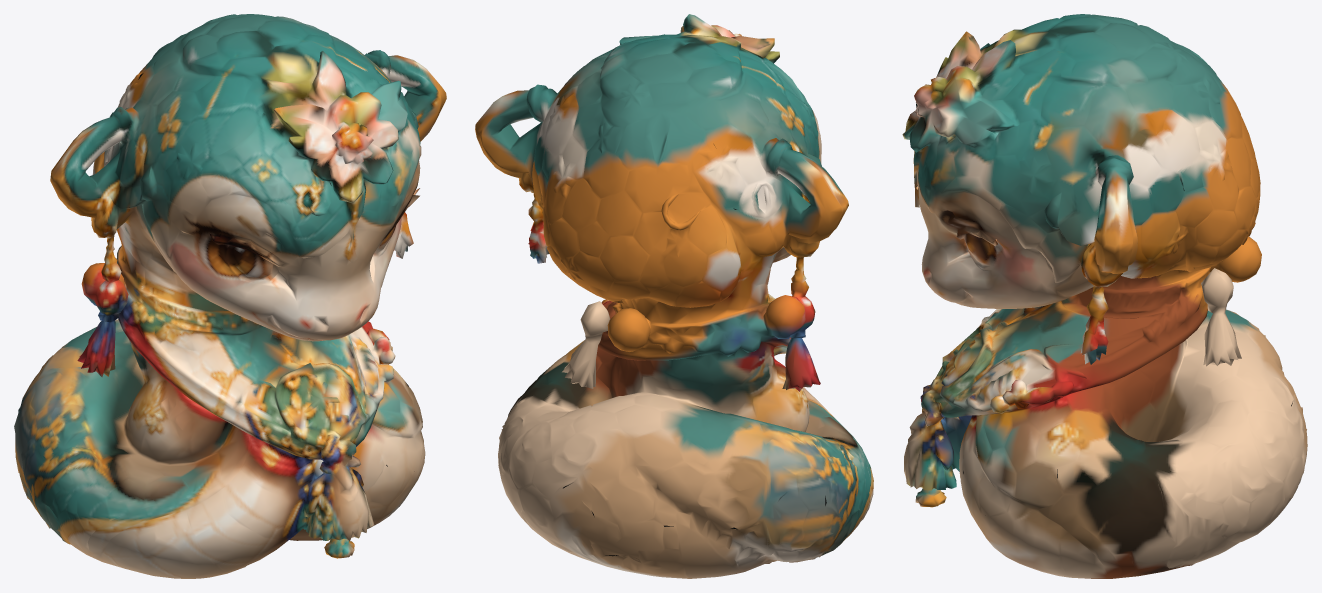
File: original.glb
3 renders of one model, left to right at view 1: azimuth 30°, elevation 25°; view 2: azimuth 150°, elevation 25°; view 3: azimuth 270°, elevation 25°, orthographic. The views are drawn at different scales.
Visible parts, largest first — view 1: Body; view 2: Body; view 3: Body.
Boxes of the visible parts, x1,y1,x2,y2 form: Body: (14, 14, 446, 578); Body: (475, 14, 873, 578); Body: (902, 14, 1307, 578).
Size of the model in its own units: 0.8425 by 1 by 0.7288.
1 material, 1 textured.
